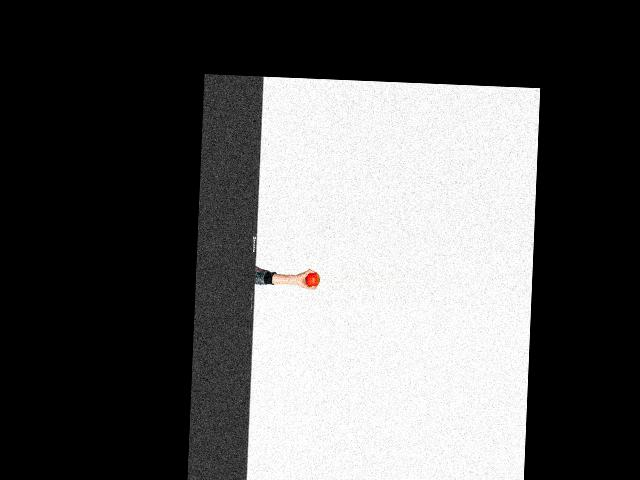tomato: (305, 271, 320, 287)
